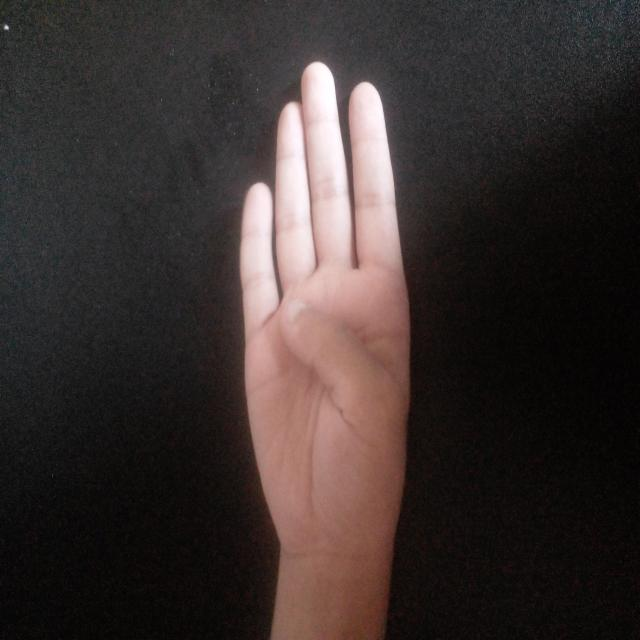Open Hand: (234, 59, 413, 552)
